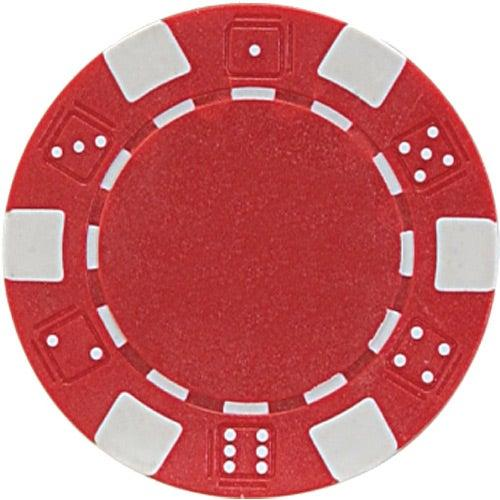chip-red: (4, 5, 497, 497)
